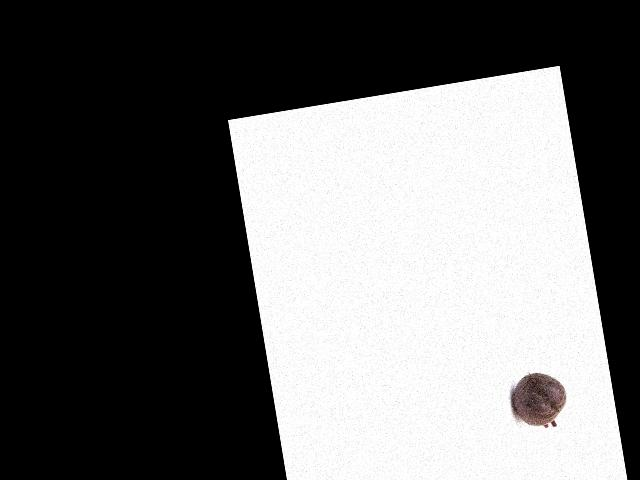beet: (508, 368, 570, 432)
